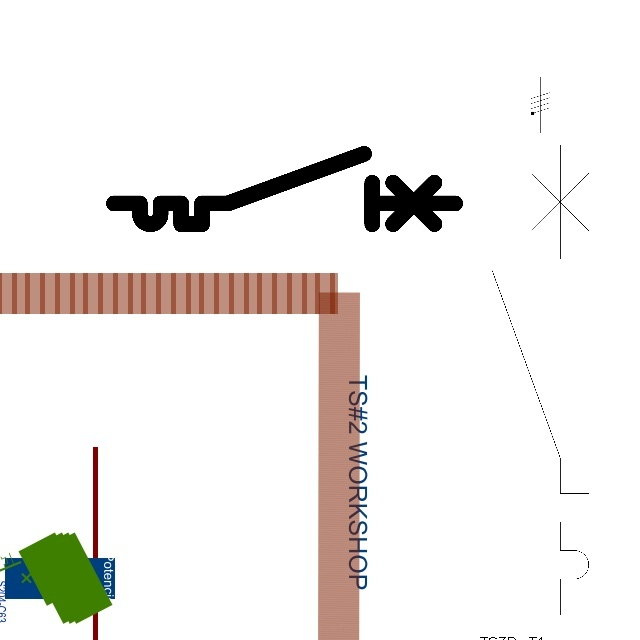interruptor_termomagnetico: (480, 132, 601, 626), (105, 145, 464, 233)
